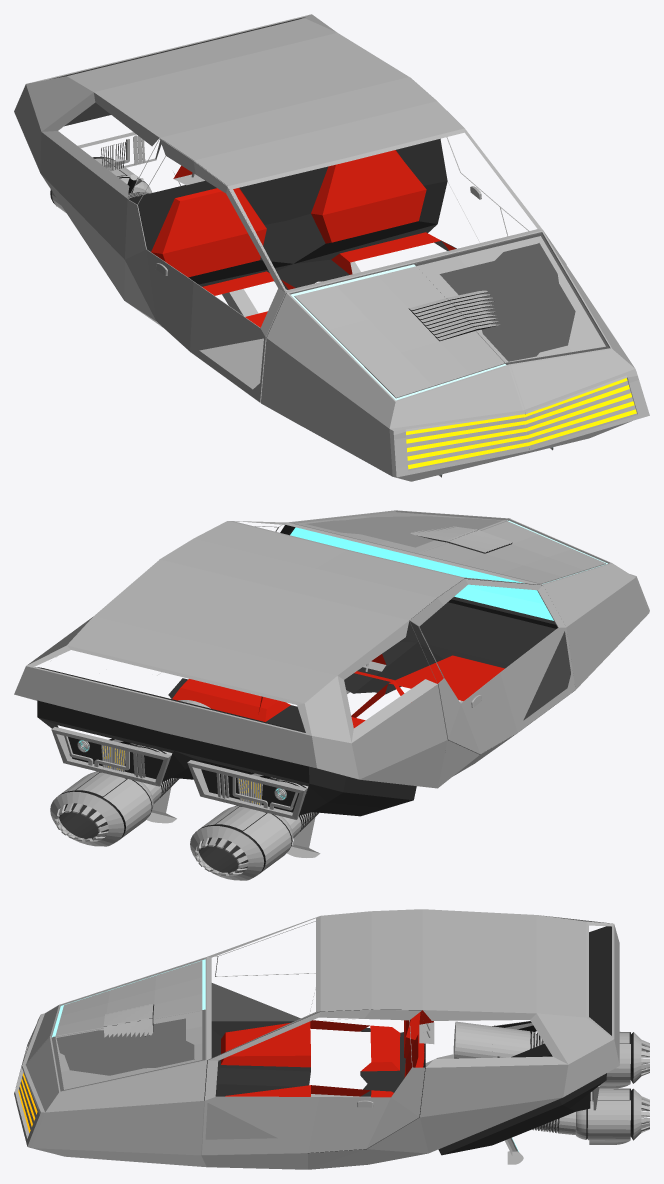
File: Night_Drive_Space_spaceship.glb
The picture shows the model from 3 angles, top to bottom: view 1: azimuth 30°, elevation 25°; view 2: azimuth 150°, elevation 25°; view 3: azimuth 270°, elevation 25°; orthographic projection. The views are drawn at different scales.
Visible parts, largest first — view 1: SpaceShip, Cube.001, Reactor; view 2: SpaceShip, Reactor, Cube.001; view 3: SpaceShip, Reactor.
Boxes of the visible parts, <box> form: SpaceShip: <box>14,14,649,481</box>; Cube.001: <box>77,132,161,171</box>; Reactor: <box>50,156,152,212</box>; SpaceShip: <box>14,510,649,857</box>; Reactor: <box>50,700,319,880</box>; Cube.001: <box>51,727,307,819</box>; SpaceShip: <box>14,909,619,1169</box>; Reactor: <box>453,1021,649,1144</box>.
Bounding box in the file's own units: 228 × 136 × 463.
